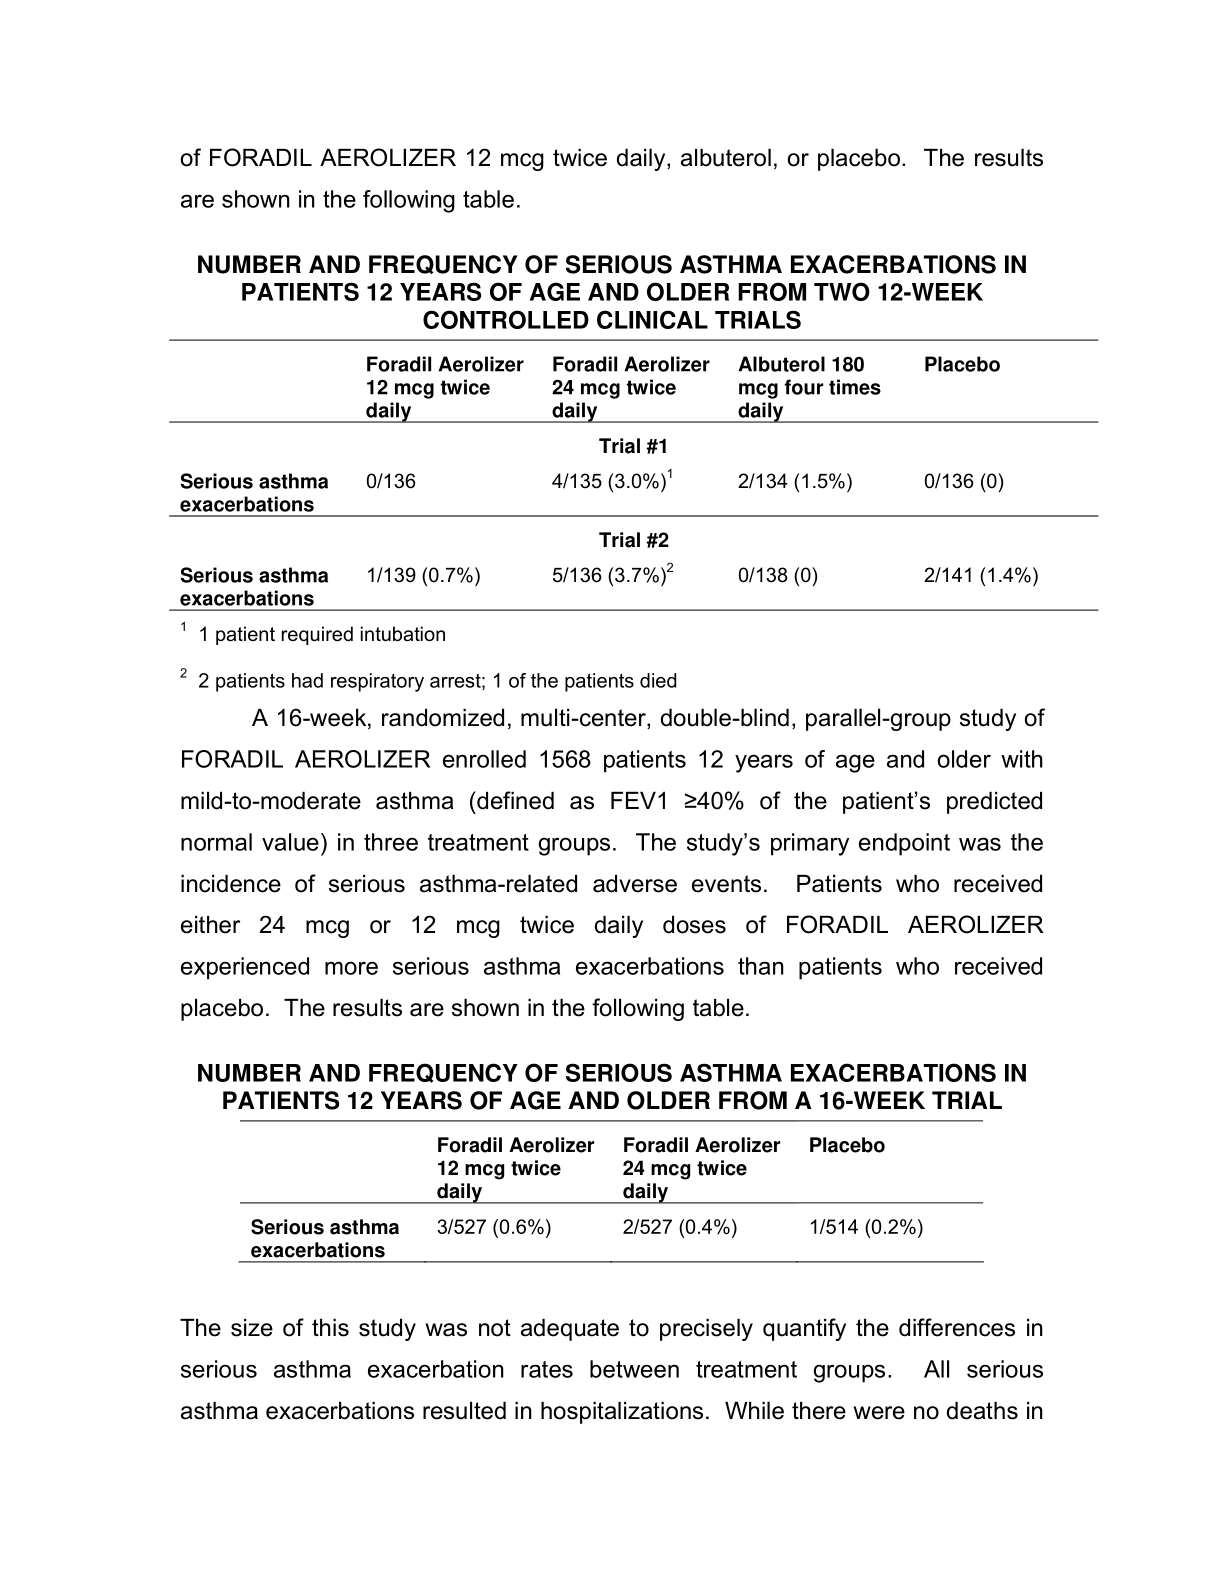partial_lined: (167, 337, 1097, 613), (238, 1119, 984, 1264)
